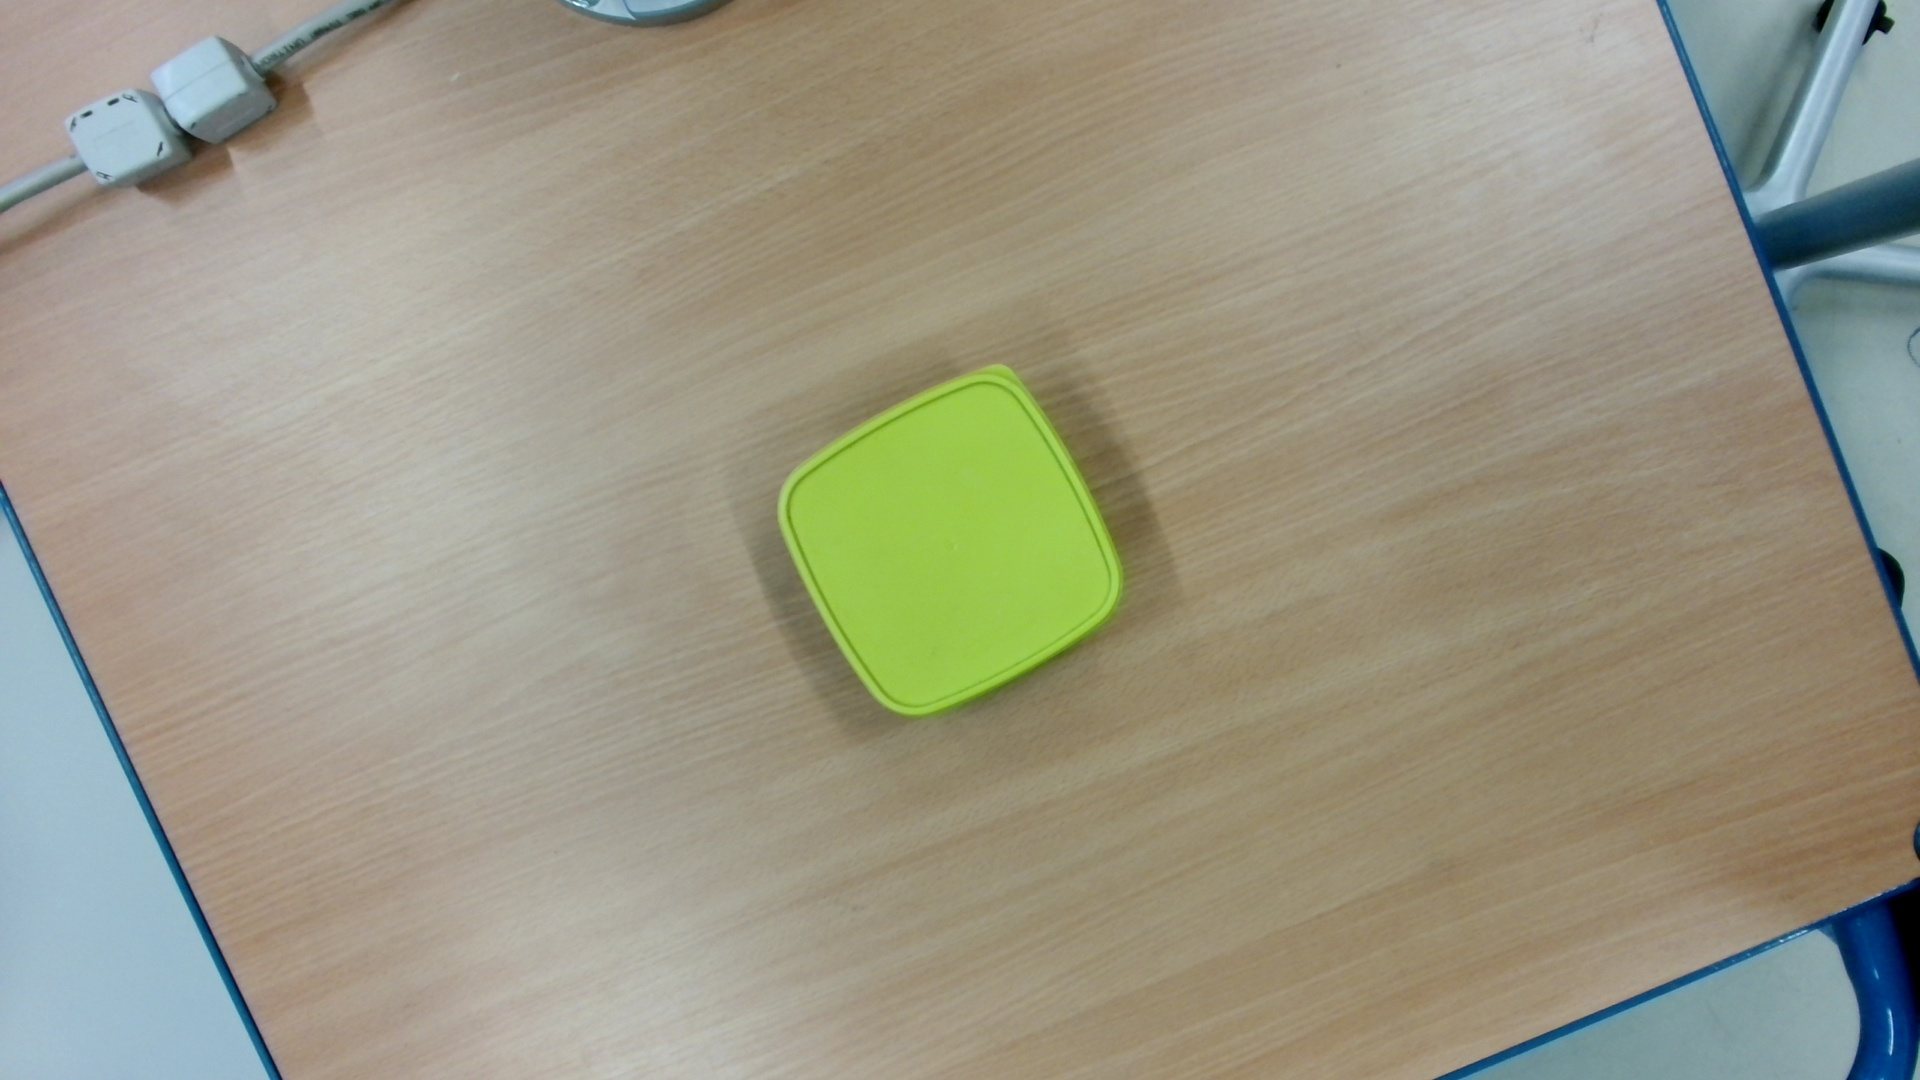Box: (770, 356, 1137, 727)
